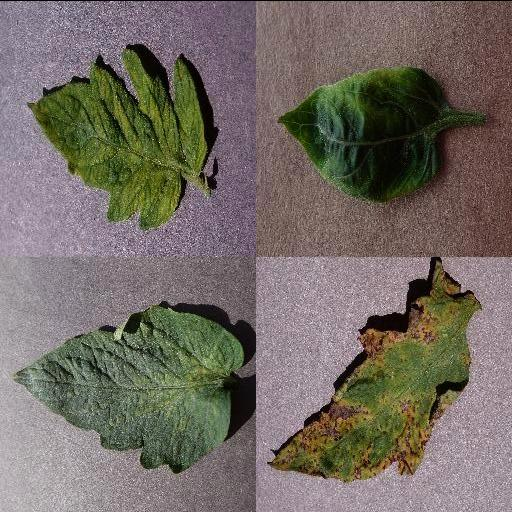Mosaic Virus: (28, 48, 212, 228)
Septoria: (267, 260, 481, 482)
Spider Mites: (10, 304, 244, 472)
Yellow Leaf Curl Virus: (277, 66, 453, 202)
